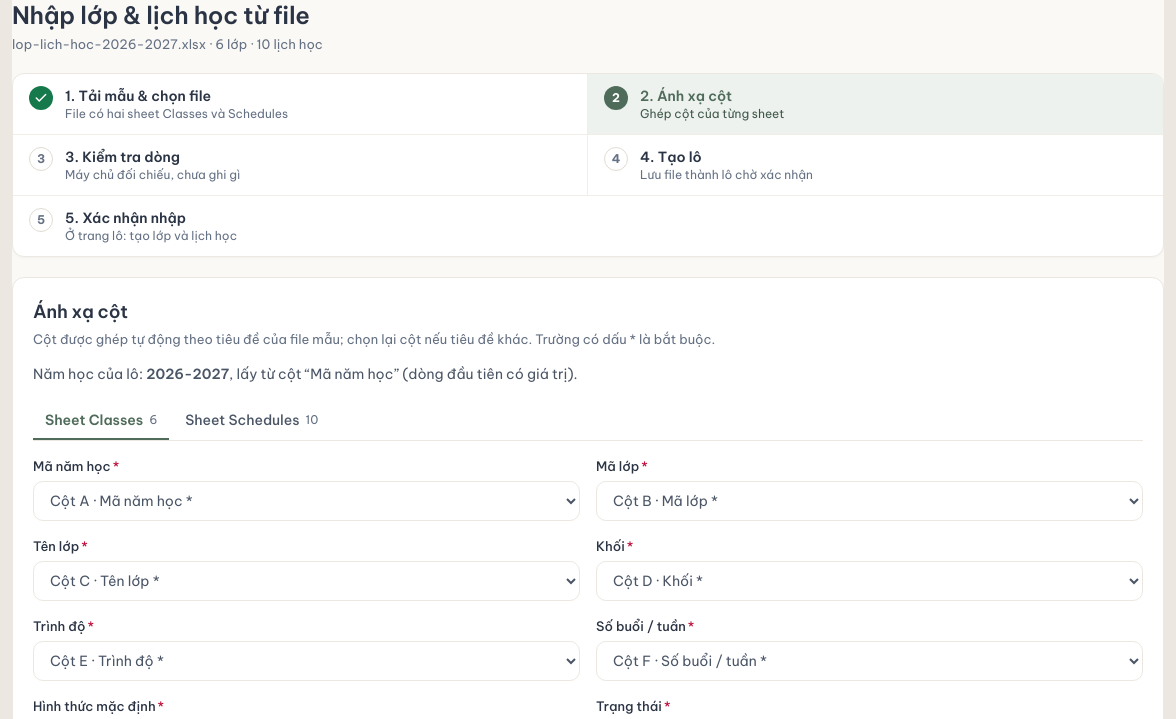
ClassScheduleImportPage: mapping › shows both sheets in Tabs, one at a time, auto-mapped, with weekdays in words
This screenshot has width=1176, height=719.
expect the number of list items is 5: met, box [13, 74, 588, 134]; [588, 74, 1163, 134]; [13, 134, 588, 195]; [588, 134, 1163, 195]; [13, 195, 1163, 256]
expect the dropdown labelled "Mã lớp" shows "Cột B · Mã lớp *": met, box [596, 481, 1143, 521]
Click the tab "Sheet Schedules 10": (252, 420) [173, 400, 330, 440]
(page scrolled)
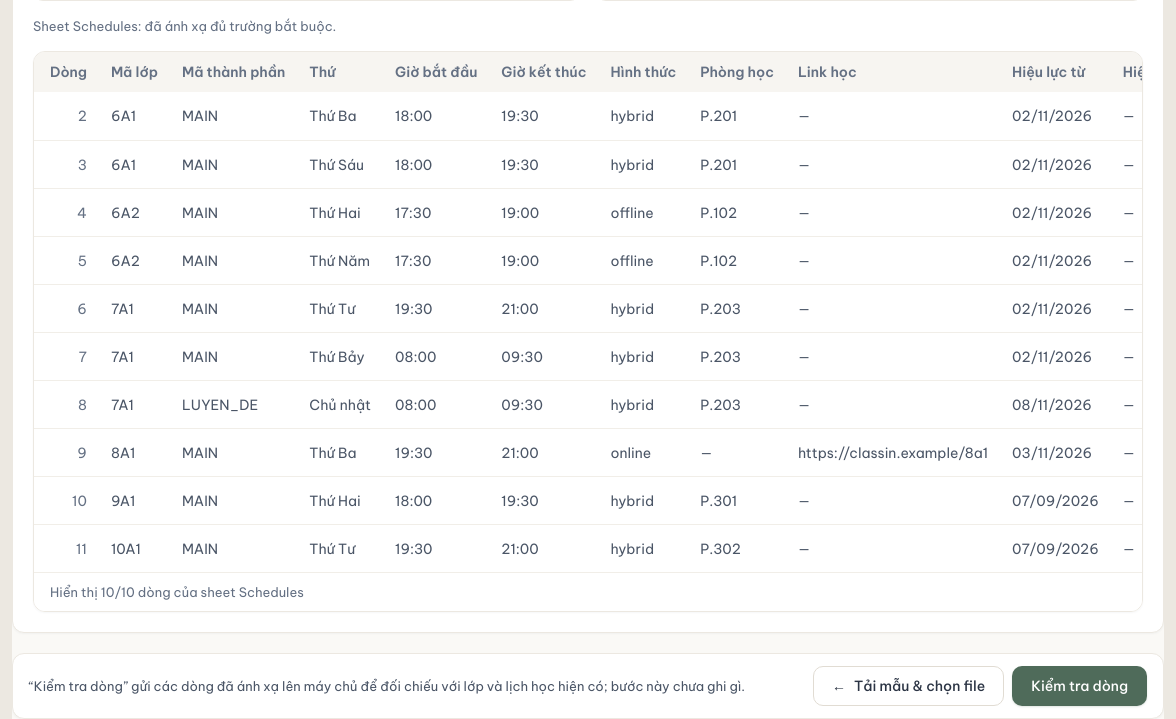
expect the label labelled "Trạng thái" is gone: met
expect the 1st text "Thứ Ba" is shown: met, box [297, 92, 383, 140]
expect the text "Chủ nhật" is shown: met, box [297, 380, 383, 428]
